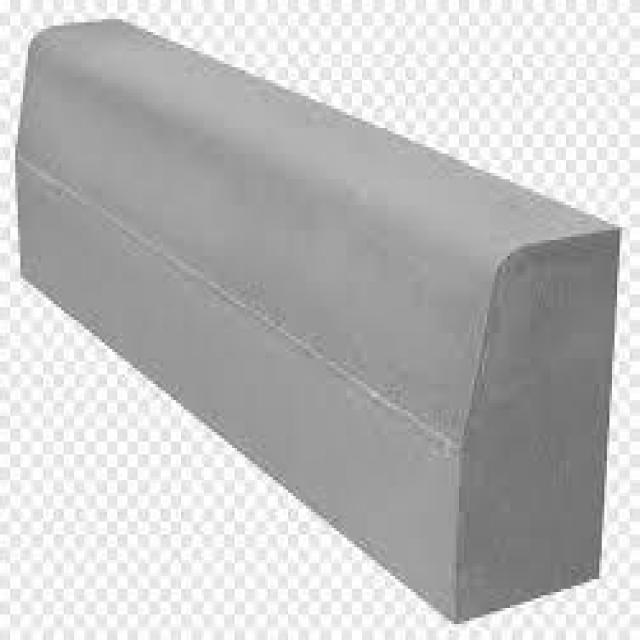curb: (11, 13, 622, 630)
